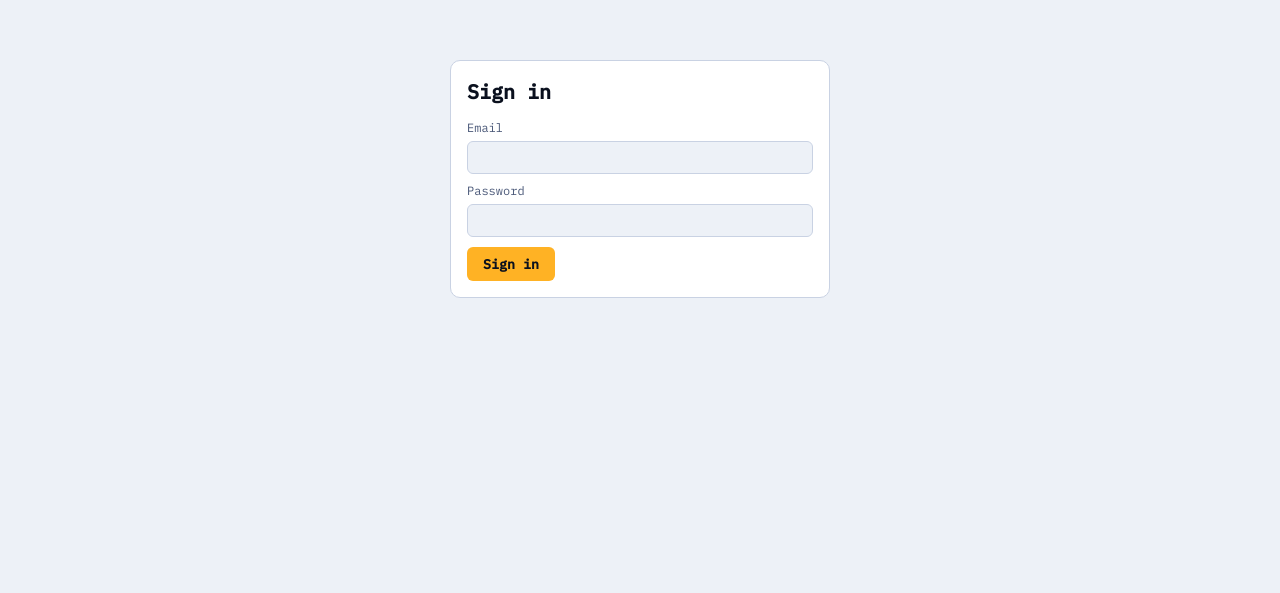
Scenario: login success shows the tabs; models tab lists models from the API
In the field named "Email": [640, 158] box [467,141,813,174], type "a@b.c"
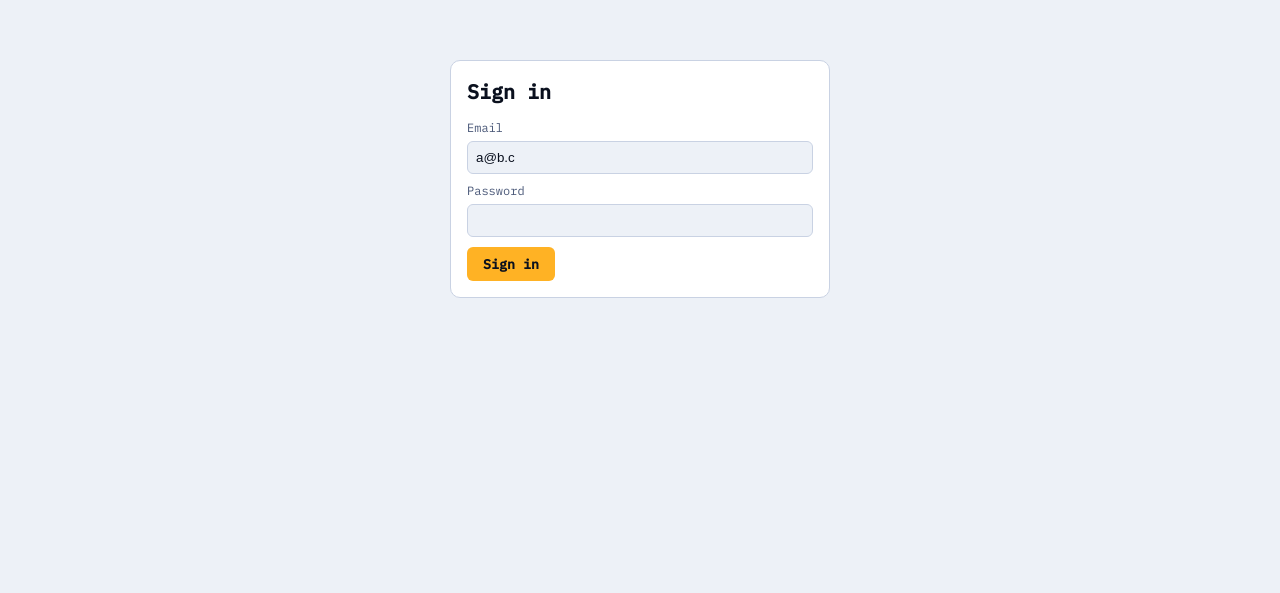
In the password field named "Password": [640, 220] box [467,204,813,237], type "pw"
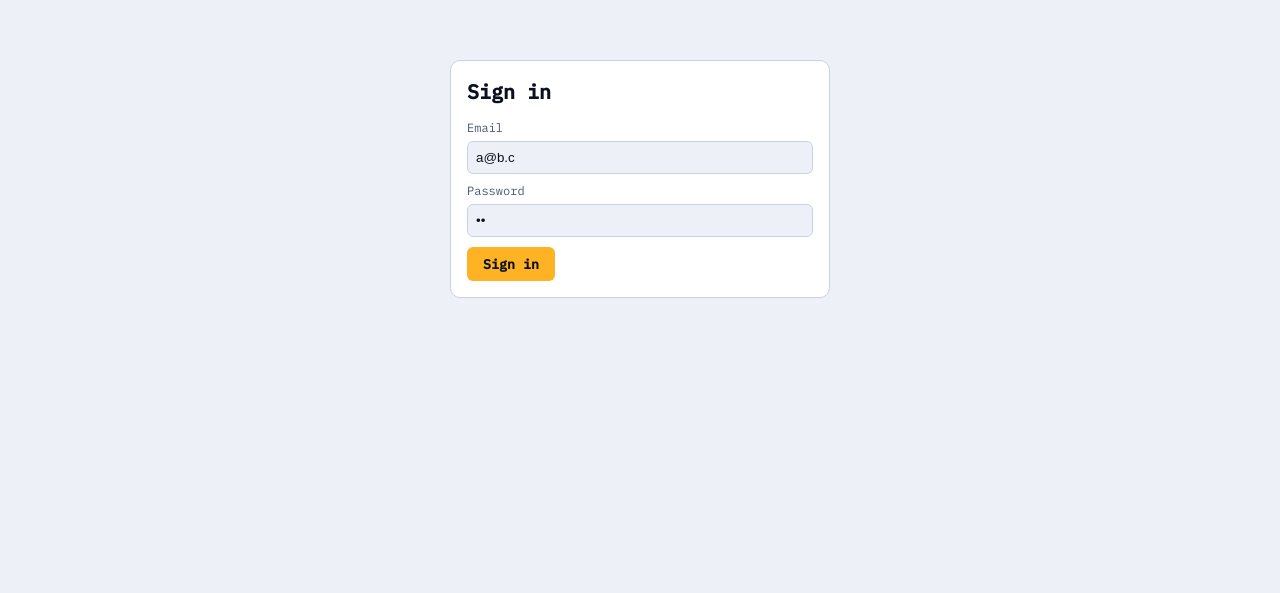
Click the button "Sign in": [511, 264] box [467,247,555,281]
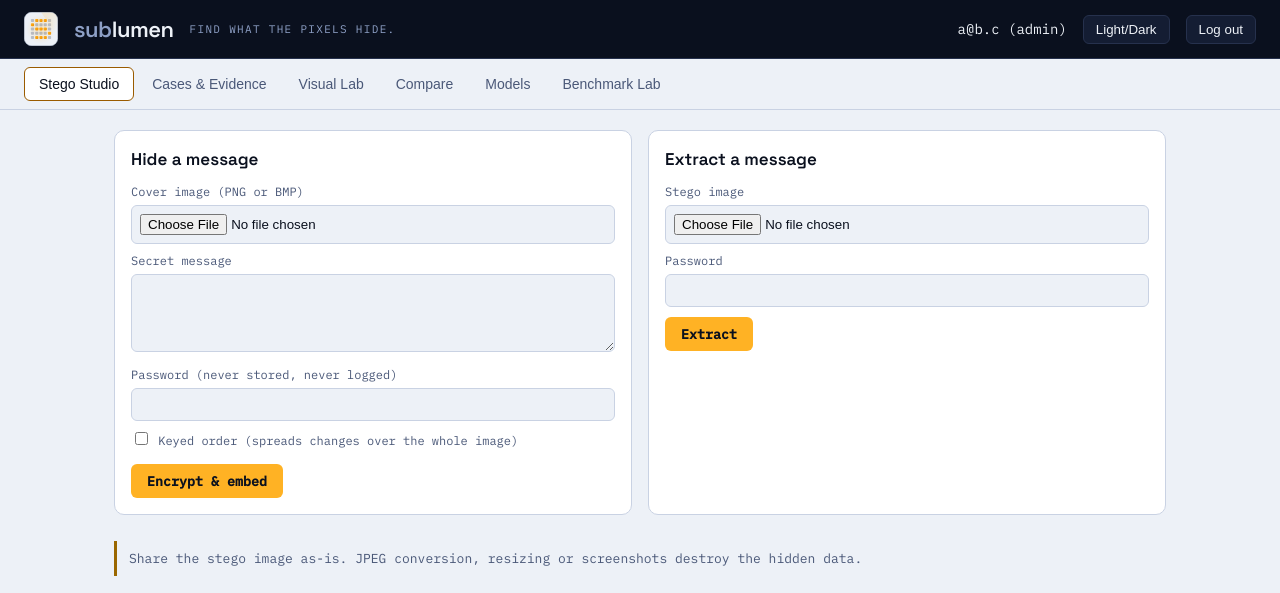
Now the button "Stego Studio" is shown, box [24,67,134,101]
Click the button "Models": [508, 84] box [471,67,544,101]
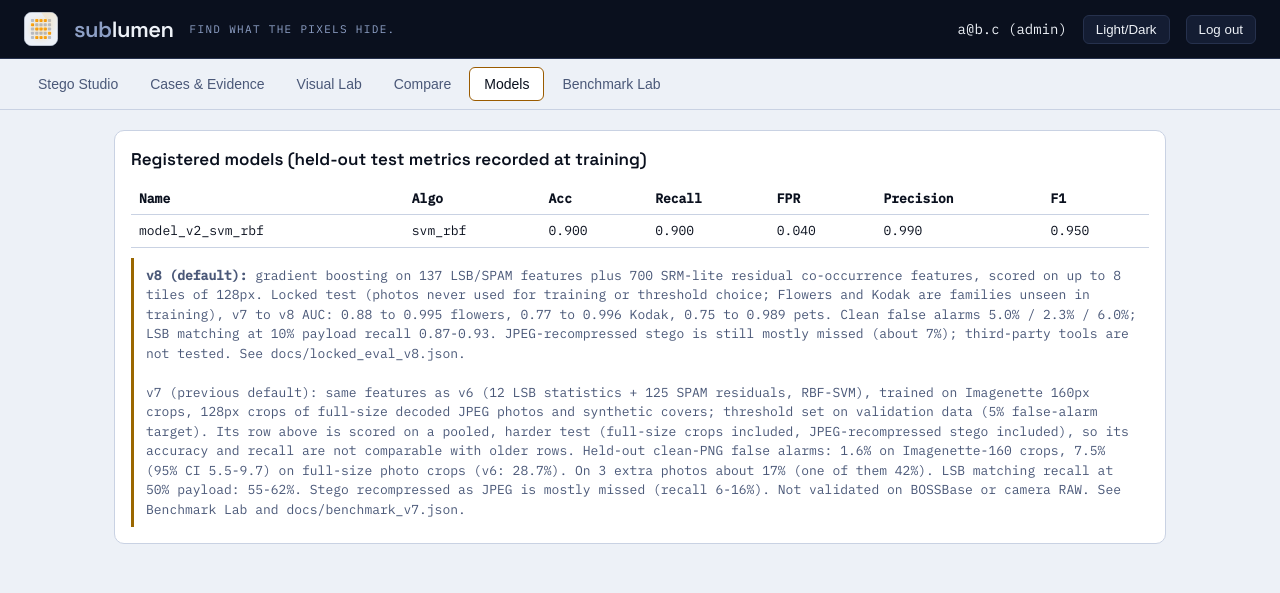
Now the text "model_v2_svm_rbf" is shown, box [131,214,404,247]
Now the text "0.040" is shown, box [769,214,875,247]
